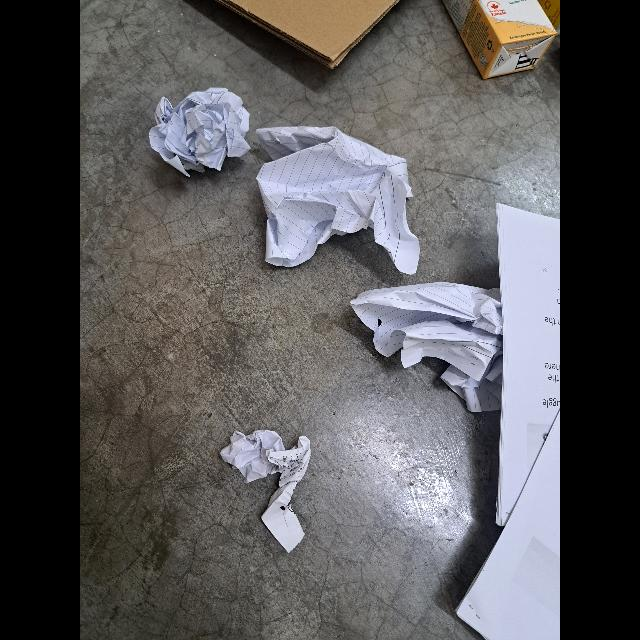caixinha: (438, 0, 560, 81)
papel: (452, 205, 560, 640), (255, 126, 420, 274), (351, 284, 505, 412), (222, 430, 310, 552), (149, 86, 251, 178)
papelão: (210, 0, 408, 72)
